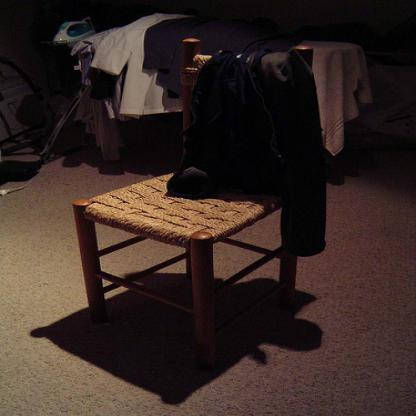chair: (68, 37, 324, 375)
